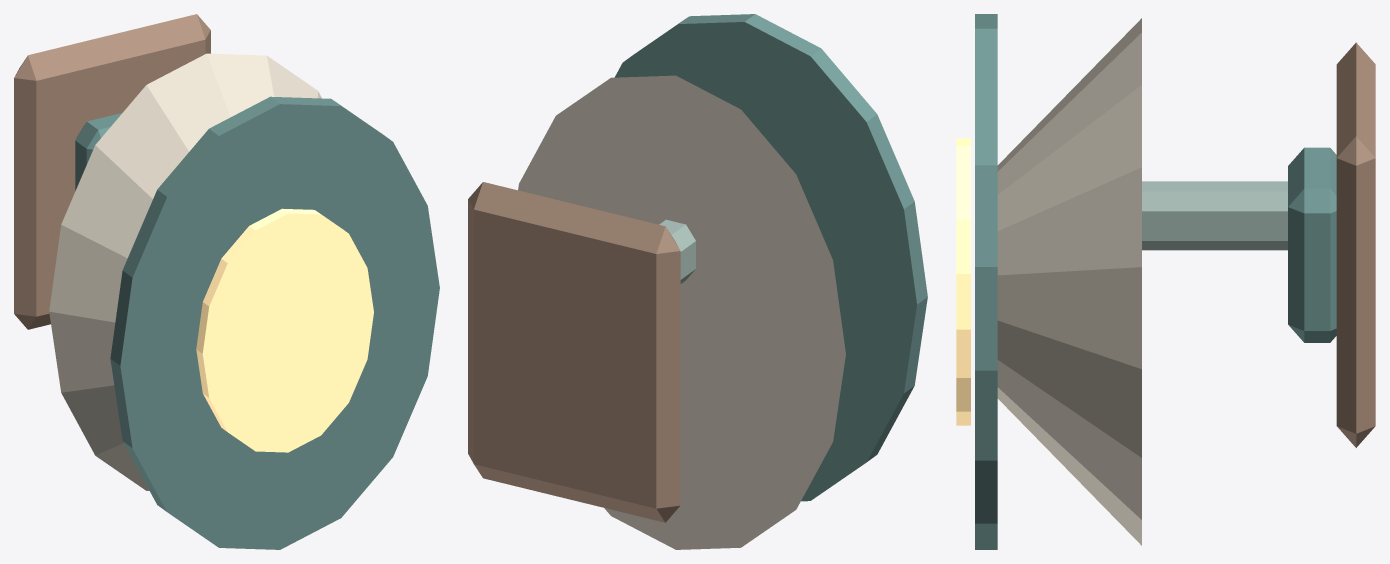
The model's file is P13_art_repair_candidate.glb.
The picture shows the model from 3 angles, left to right: view 1: azimuth 30°, elevation 25°; view 2: azimuth 150°, elevation 25°; view 3: azimuth 270°, elevation 25°; orthographic projection. The views are drawn at different scales.
Parts seen in each view (by area): view 1: P13_Teal_Shade_Rim, P13_Amber_Diffuser, P13_Cream_Enamel_Shade, P13_Walnut_WallPlate, P13_Teal_Mount; view 2: P13_Cream_Enamel_Shade, P13_Walnut_WallPlate, P13_Teal_Shade_Rim, P13_Arm; view 3: P13_Cream_Enamel_Shade, P13_Walnut_WallPlate, P13_Teal_Shade_Rim, P13_Arm, P13_Teal_Mount, P13_Amber_Diffuser.
Part boxes in pixels (x1=…): P13_Teal_Shade_Rim: x1=110, y1=96, x2=439, y2=549; P13_Amber_Diffuser: x1=196, y1=208, x2=373, y2=452; P13_Cream_Enamel_Shade: x1=49, y1=53, x2=321, y2=490; P13_Walnut_WallPlate: x1=14, y1=14, x2=210, y2=329; P13_Teal_Mount: x1=75, y1=113, x2=121, y2=190; P13_Cream_Enamel_Shade: x1=518, y1=75, x2=845, y2=549; P13_Walnut_WallPlate: x1=468, y1=182, x2=680, y2=522; P13_Teal_Shade_Rim: x1=614, y1=14, x2=927, y2=501; P13_Arm: x1=659, y1=219, x2=695, y2=283; P13_Cream_Enamel_Shade: x1=997, y1=18, x2=1141, y2=545; P13_Walnut_WallPlate: x1=1336, y1=42, x2=1375, y2=447; P13_Teal_Shade_Rim: x1=975, y1=14, x2=997, y2=549; P13_Arm: x1=1142, y1=181, x2=1287, y2=250; P13_Teal_Mount: x1=1288, y1=147, x2=1336, y2=342; P13_Amber_Diffuser: x1=956, y1=138, x2=970, y2=425.
Size of the model in its own units: 1.5 by 2 by 1.5.
